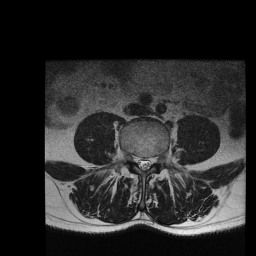CCS_normal: (141, 151, 147, 174)
LFS_normal: (152, 148, 159, 168)
LLS_normal: (147, 150, 152, 173)
RFS_normal: (130, 148, 136, 167)
RLS_normal: (136, 149, 141, 172)
